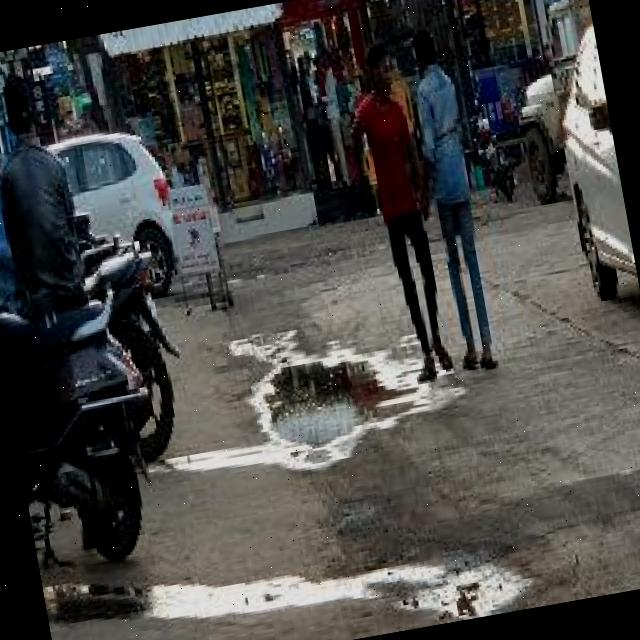stagnation: (232, 309, 413, 482), (392, 540, 568, 630)
